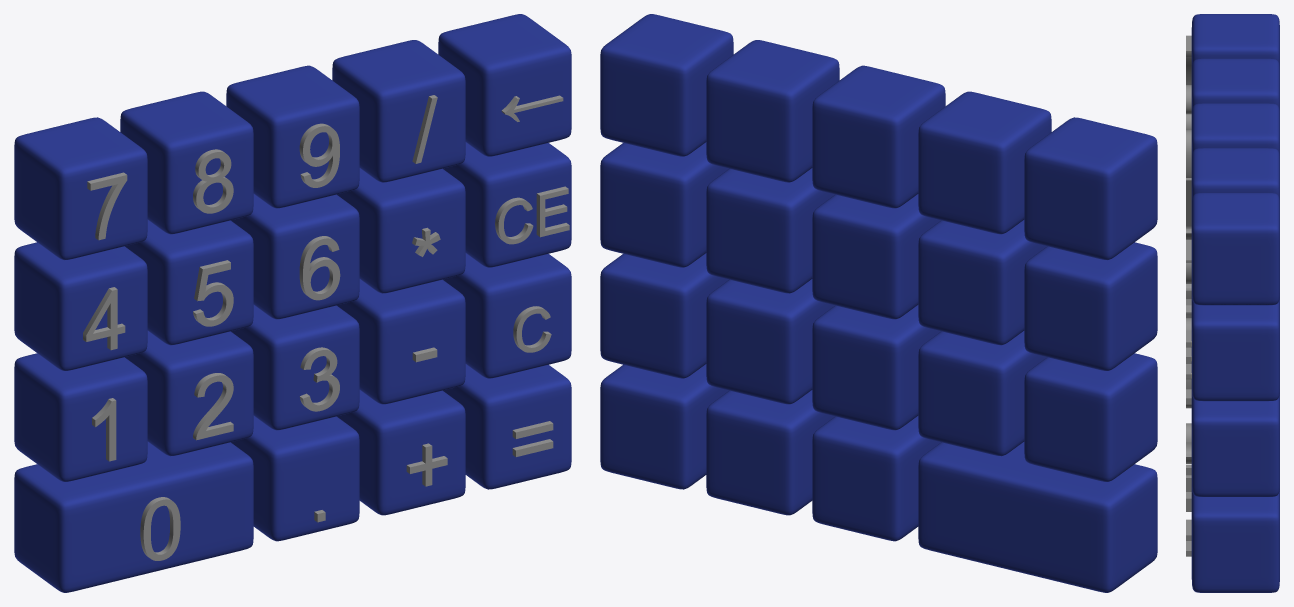
File: calculator.FBX
3 views of the same model, side by side, from view 1: azimuth 30°, elevation 25°; view 2: azimuth 150°, elevation 25°; view 3: azimuth 270°, elevation 25° (orthographic). The views are drawn at different scales.
Parts seen in each view (by area): view 1: b0, b7, bdel, b1, bdiv, b4, b9, b8, bdot, bminus, bmul, bplus (+21 smaller); view 2: b0, b7, b1, b4, b8, b9, bdiv, bdel, bmul, b6, bdot, b3 (+7 smaller); view 3: bdel, bce, bequal, bc, b8, b9, b7, bdiv, tce, t7, tdiv, t9 (+7 smaller).
Part boxes in pixels (bbox=[...]): b0: bbox=[14, 442, 253, 592]; b7: bbox=[14, 117, 147, 260]; bdel: bbox=[438, 14, 571, 156]; b1: bbox=[14, 353, 147, 481]; bdiv: bbox=[332, 40, 465, 182]; b4: bbox=[14, 242, 147, 370]; b9: bbox=[226, 65, 359, 208]; b8: bbox=[120, 91, 253, 234]; bdot: bbox=[231, 416, 359, 541]; bminus: bbox=[337, 279, 465, 404]; bmul: bbox=[337, 168, 465, 293]; bplus: bbox=[337, 390, 465, 515]; b0: bbox=[918, 442, 1157, 592]; b7: bbox=[1024, 117, 1157, 260]; b1: bbox=[1024, 353, 1157, 481]; b4: bbox=[1024, 242, 1157, 370]; b8: bbox=[918, 91, 1051, 234]; b9: bbox=[812, 65, 945, 208]; bdiv: bbox=[706, 40, 839, 182]; bdel: bbox=[600, 14, 733, 156]; bmul: bbox=[706, 168, 834, 293]; b6: bbox=[812, 194, 940, 319]; bdot: bbox=[812, 416, 940, 541]; b3: bbox=[812, 305, 940, 430]; bdel: bbox=[1191, 193, 1279, 305]; bce: bbox=[1191, 298, 1279, 401]; bequal: bbox=[1191, 490, 1279, 592]; bc: bbox=[1191, 394, 1279, 496]; b8: bbox=[1191, 58, 1279, 116]; b9: bbox=[1191, 103, 1279, 161]; b7: bbox=[1191, 14, 1279, 71]; bdiv: bbox=[1191, 148, 1279, 205]; tce: bbox=[1186, 318, 1191, 378]; t7: bbox=[1186, 35, 1191, 84]; tdiv: bbox=[1186, 178, 1191, 226]; t9: bbox=[1186, 130, 1191, 177].
Bounding box in the file's own units: 0.1473 × 0.1168 × 0.0271.
